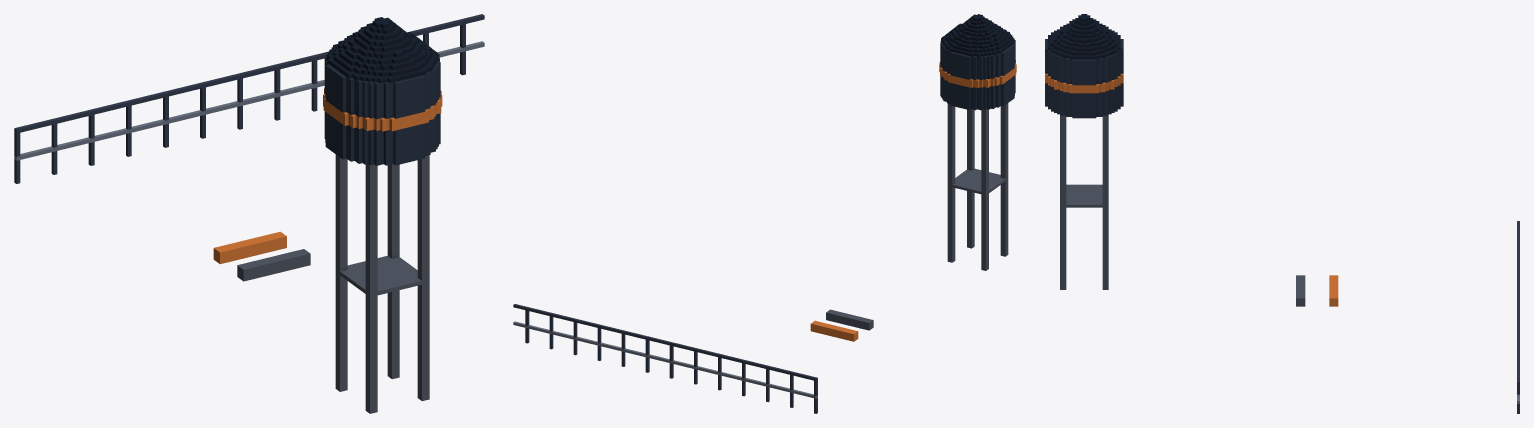
The model's file is pad_e4_l2.glb.
3 renders of one model, left to right at view 1: azimuth 30°, elevation 25°; view 2: azimuth 150°, elevation 25°; view 3: azimuth 270°, elevation 25°, orthographic. The views are drawn at different scales.
Visible parts, largest first — view 1: Base; view 2: Base; view 3: Base.
Part boxes in pixels (bbox=[...]): Base: bbox=[14, 14, 484, 413]; Base: bbox=[513, 14, 1016, 413]; Base: bbox=[1045, 14, 1519, 413].
Size of the model in its own units: 12.6 by 9.6 by 15.7.
